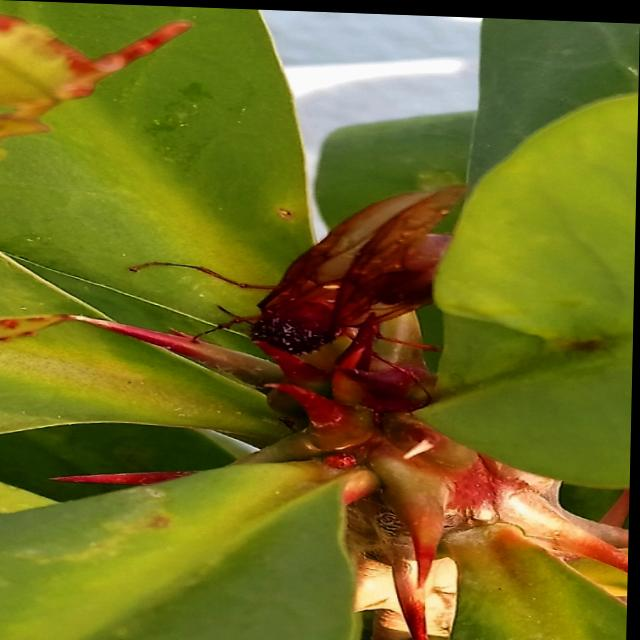Alive-Female-Alate: (127, 169, 477, 399)
